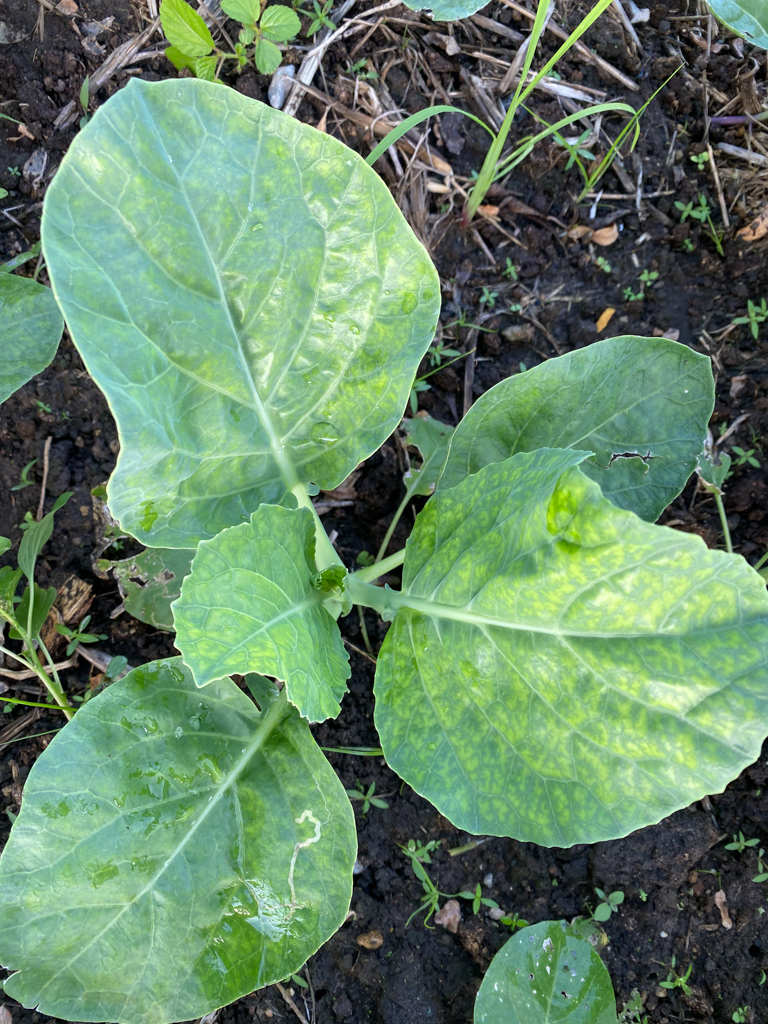Pepper yellow leaf: (388, 467, 768, 854), (185, 82, 438, 481)
